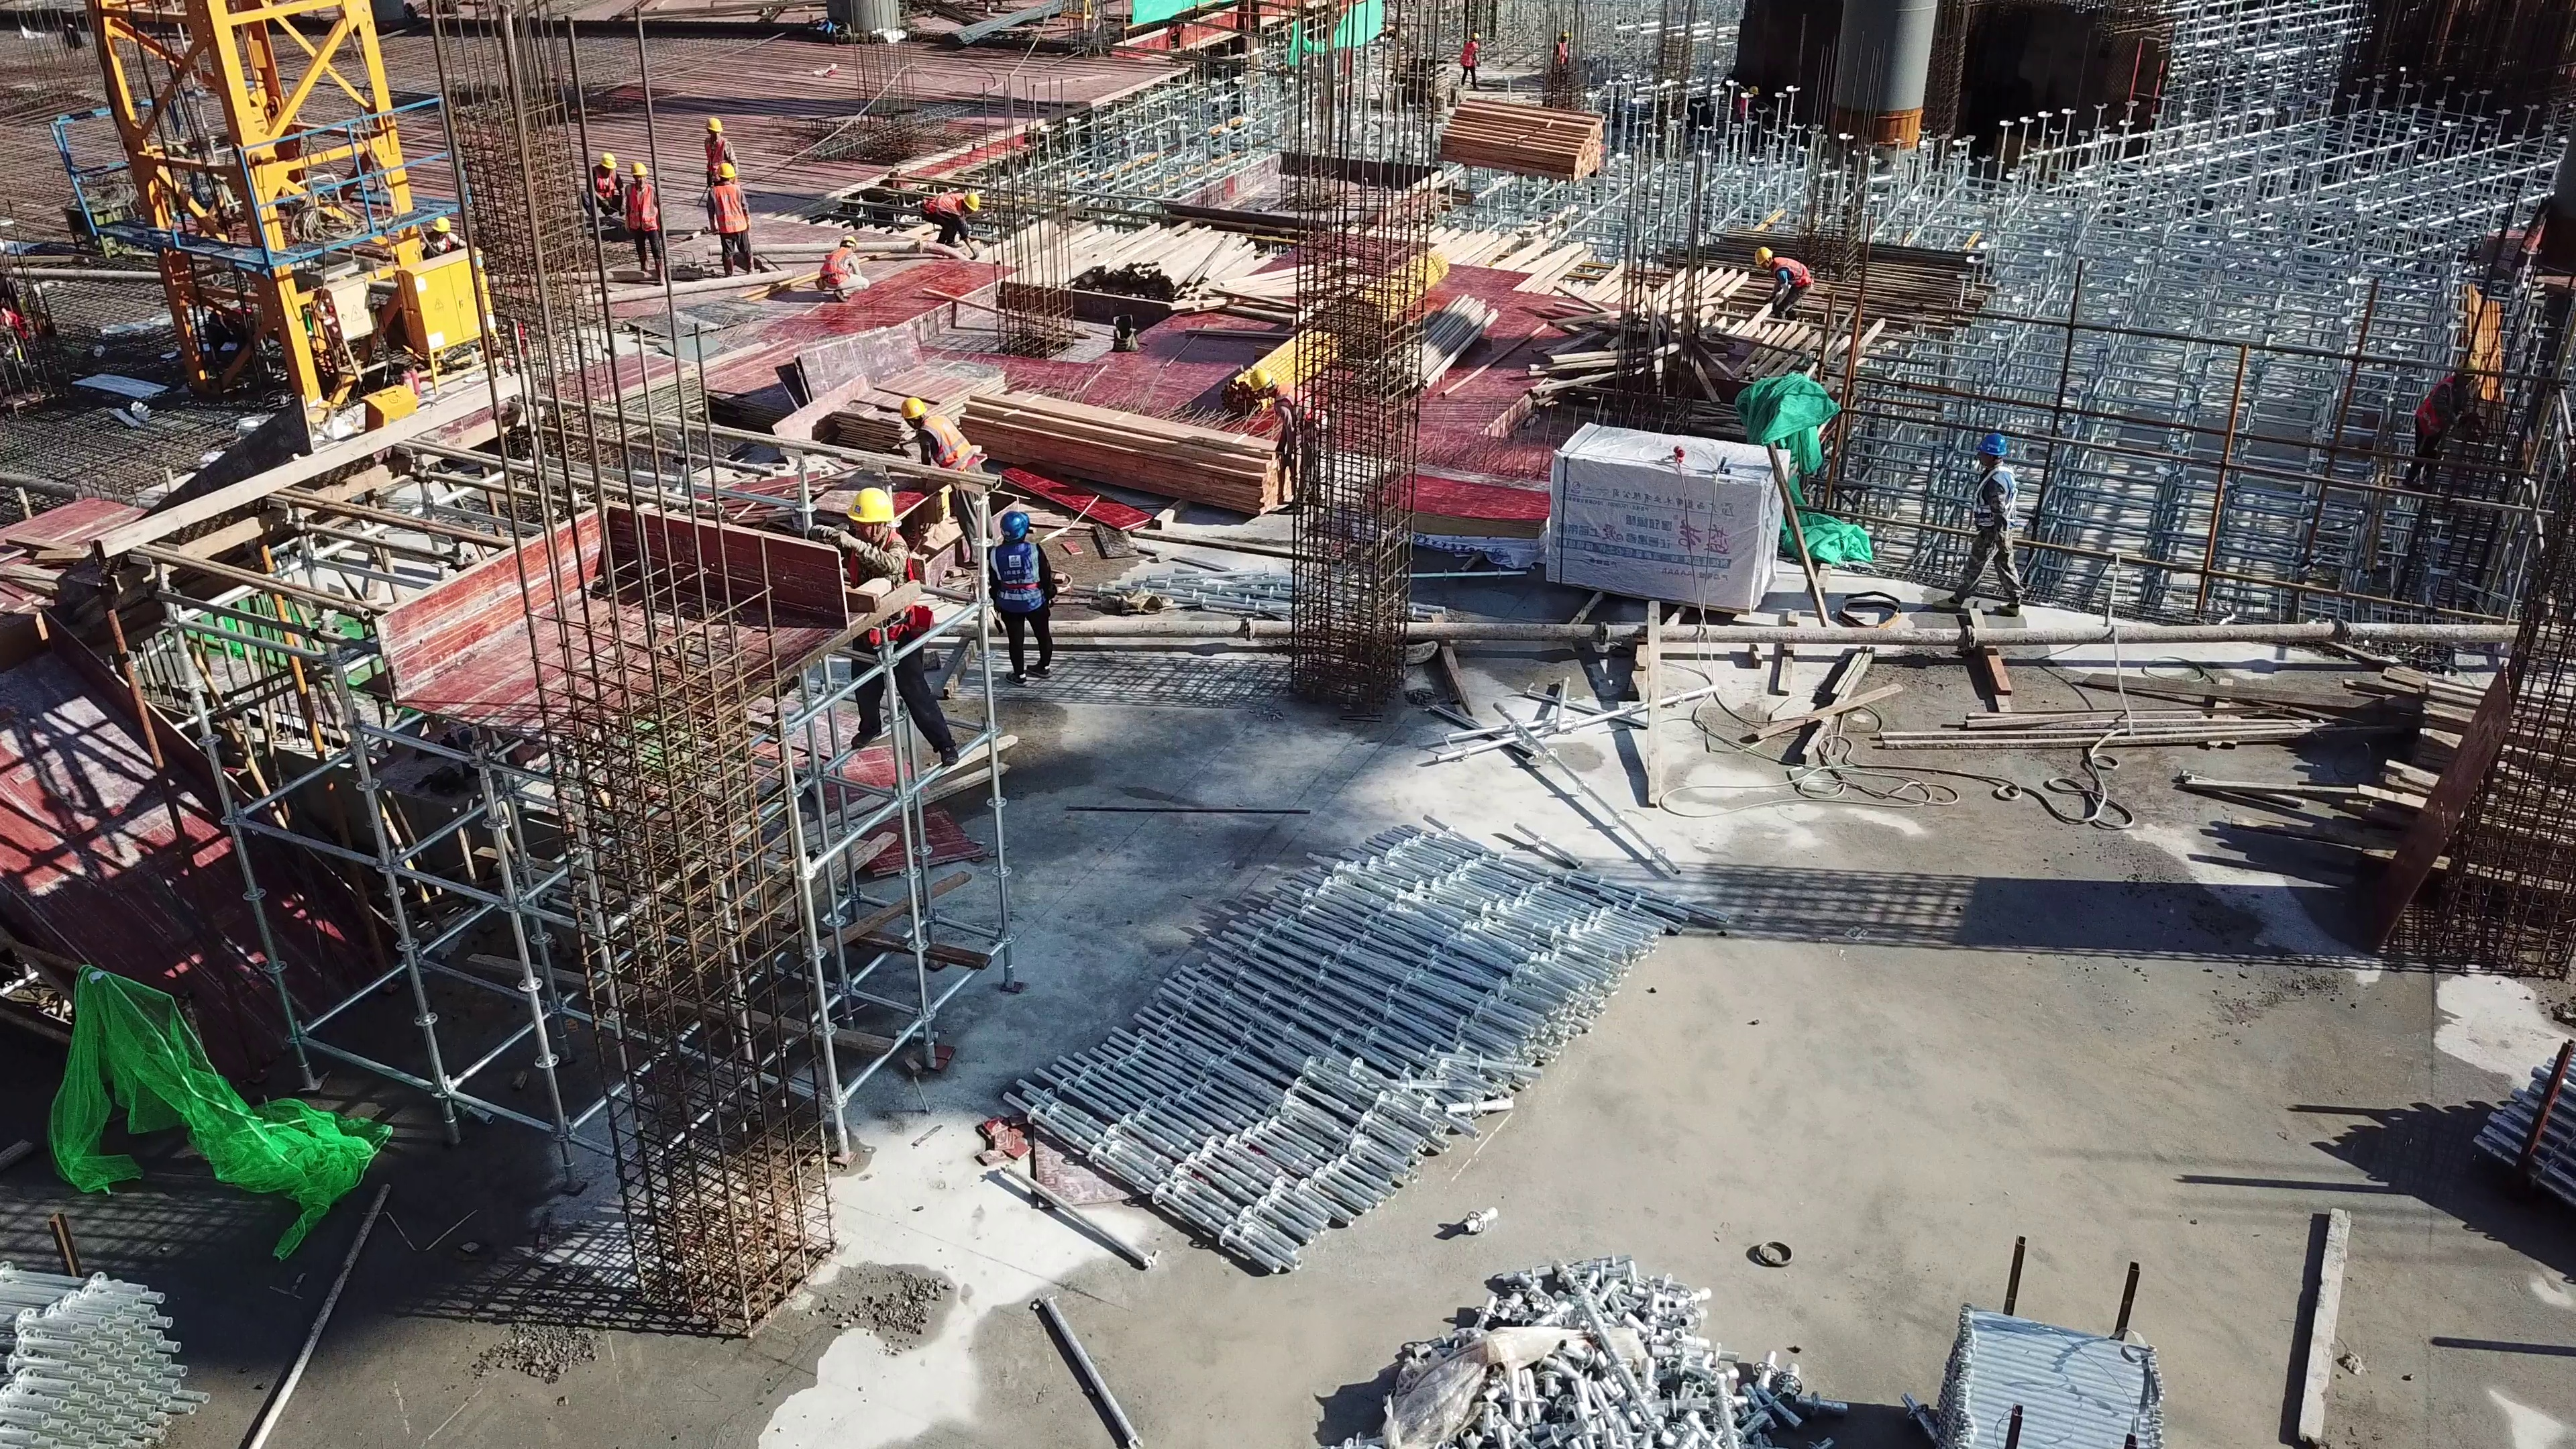helmet: (847, 484, 890, 527), (998, 510, 1030, 543), (1976, 431, 2009, 458), (1250, 366, 1278, 394), (900, 397, 925, 425), (625, 158, 648, 178), (598, 152, 618, 173), (431, 216, 453, 234), (963, 193, 982, 209), (704, 119, 721, 135), (717, 163, 735, 179), (839, 235, 857, 250), (1757, 246, 1771, 263)
person: (808, 488, 961, 768), (1932, 432, 2024, 619), (902, 395, 998, 571), (987, 512, 1054, 686), (1252, 368, 1328, 517), (2400, 358, 2477, 483), (623, 162, 672, 285), (708, 164, 755, 280), (1754, 245, 1810, 322), (919, 191, 982, 260), (702, 117, 739, 229), (815, 235, 869, 300), (582, 152, 623, 221), (423, 219, 470, 253), (1458, 34, 1481, 87), (1740, 84, 1758, 131), (1556, 29, 1570, 75)
vest: (845, 532, 912, 639), (2415, 374, 2474, 439), (993, 543, 1045, 612), (922, 415, 977, 474), (1972, 466, 2014, 528), (1273, 383, 1322, 428), (711, 180, 751, 235), (627, 184, 654, 233), (1772, 256, 1808, 288), (821, 247, 846, 285), (704, 138, 727, 178), (594, 166, 618, 201), (925, 194, 962, 217), (1460, 42, 1475, 65)
